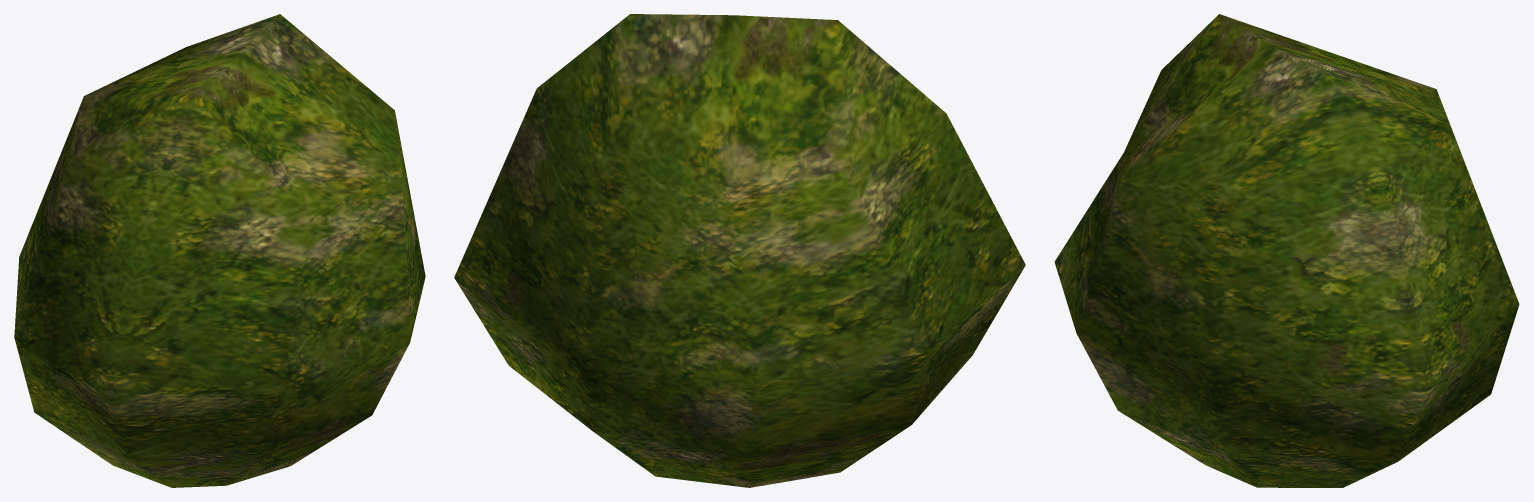
File: OVERHILL_A_01_ROCK102.fbx
3 views of the same model, side by side, from view 1: azimuth 30°, elevation 25°; view 2: azimuth 150°, elevation 25°; view 3: azimuth 270°, elevation 25° (orthographic). The views are drawn at different scales.
Visible parts, largest first — view 1: OVERHILL_A_01_ROCK102; view 2: OVERHILL_A_01_ROCK102; view 3: OVERHILL_A_01_ROCK102.
Boxes of the visible parts, box(x1,y1,x2,y2) form: OVERHILL_A_01_ROCK102: box(14, 14, 425, 487); OVERHILL_A_01_ROCK102: box(454, 14, 1025, 487); OVERHILL_A_01_ROCK102: box(1054, 14, 1519, 487).
Bounding box in the file's own units: 18148 × 17616 × 17906.
1 material, 1 textured.
